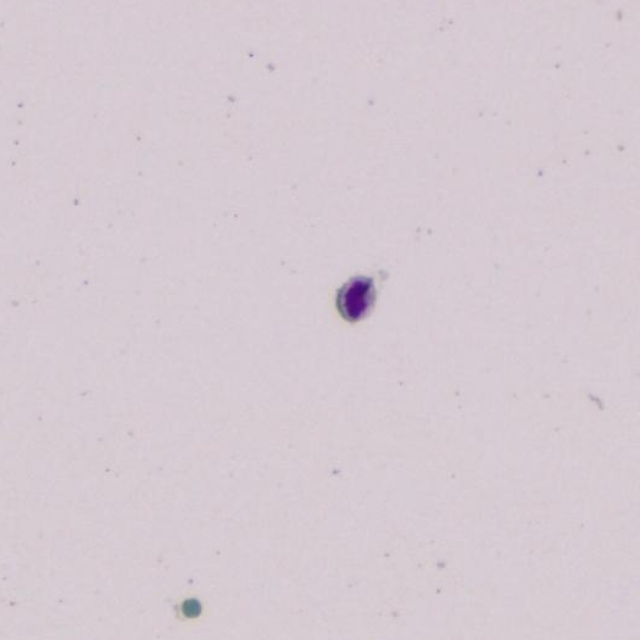intermediate: (336, 277, 374, 321)
non_viable: (180, 599, 201, 617)
